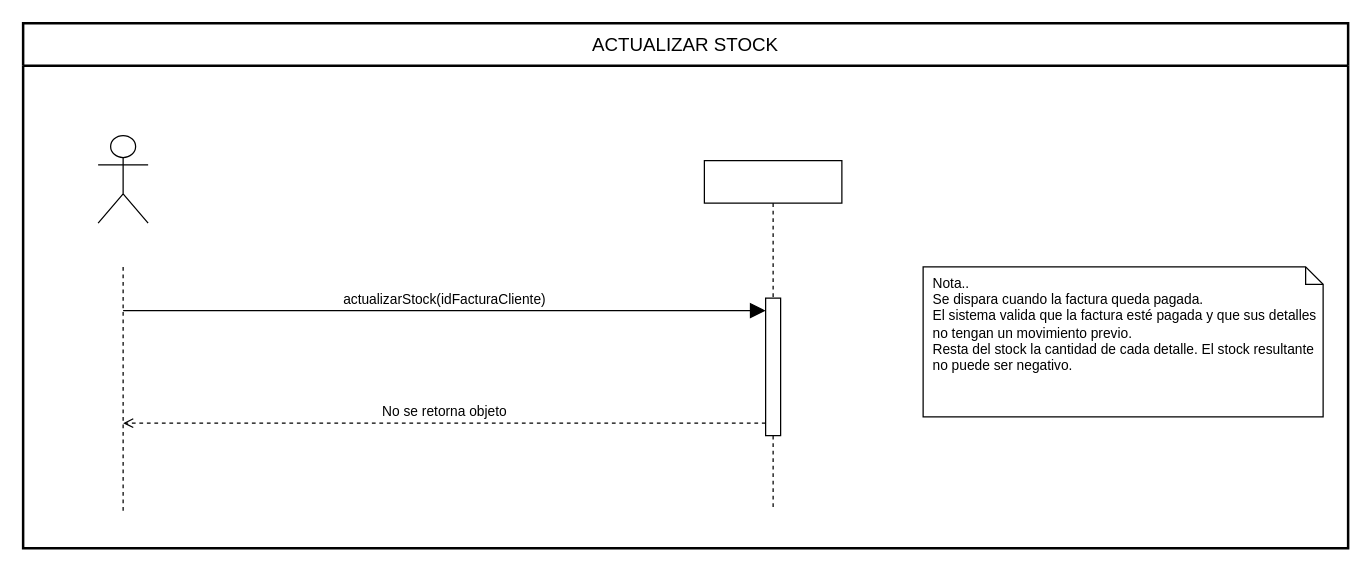
Image size: 1370x570. Some labels were removed from this diagram. The shapes that lost their labels are listed below. From the top down, each one's centre as x and y in pixels, then its label:
the point at 122,178: Sistema (automático)
the point at 772,181: SISTEMA
